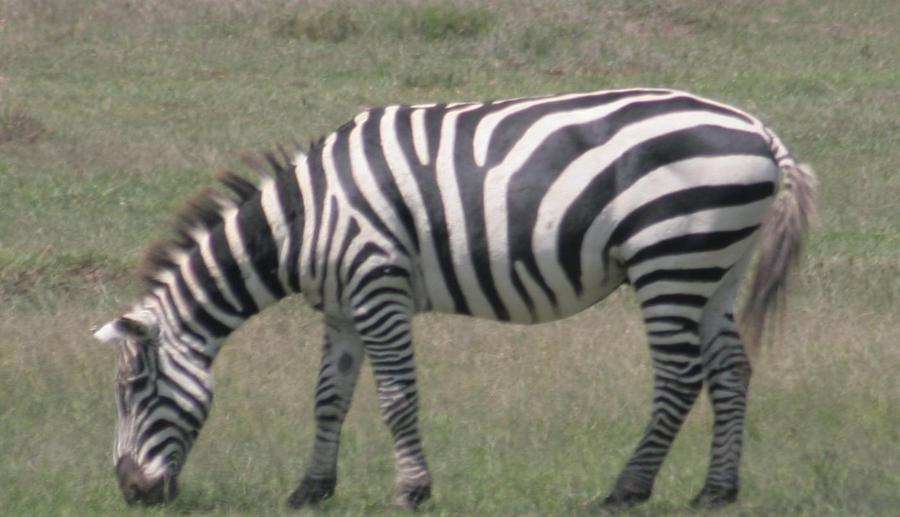zebra_plains: (254, 63, 786, 363)
